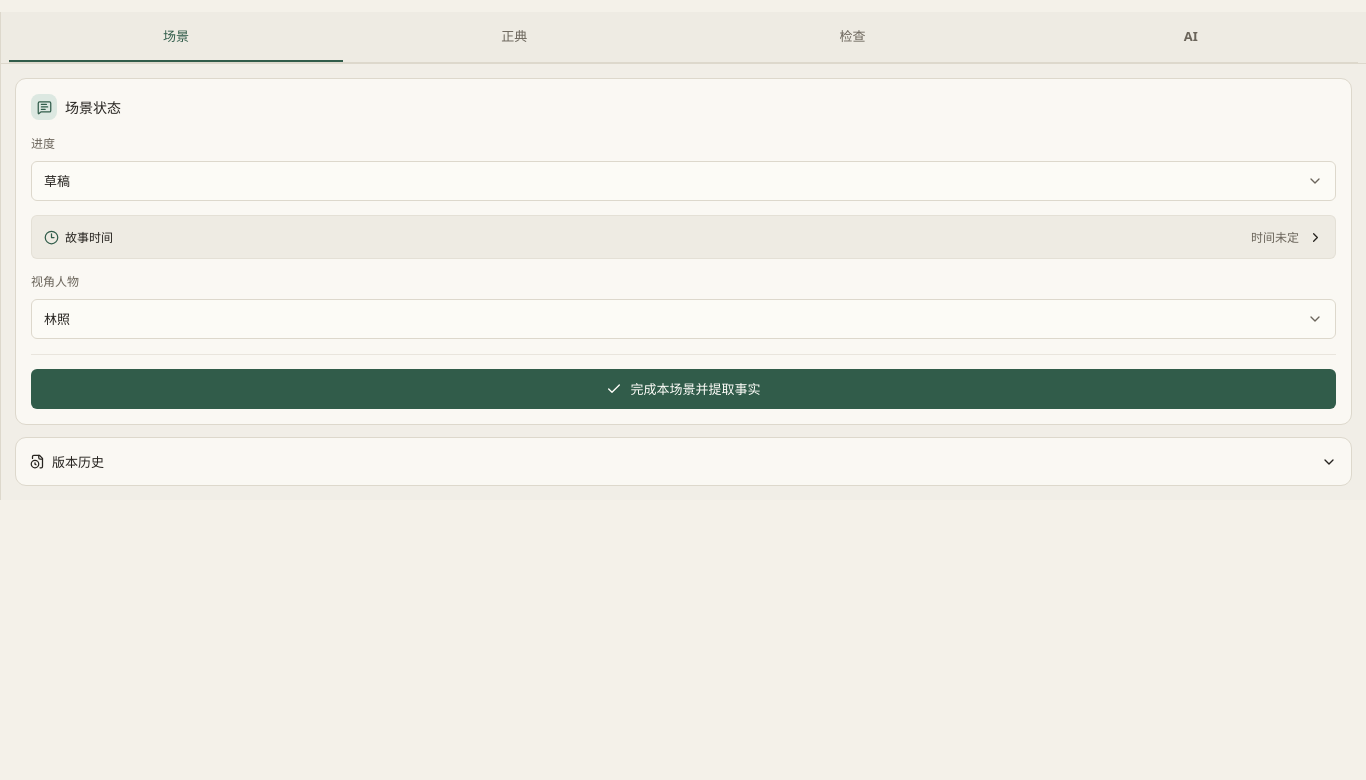
Test: Inspector knowledge panel › shows streamed local output and lets the author stop without accepting partial text
Click the tab "AI": click(1191, 37) [1024,12,1358,62]
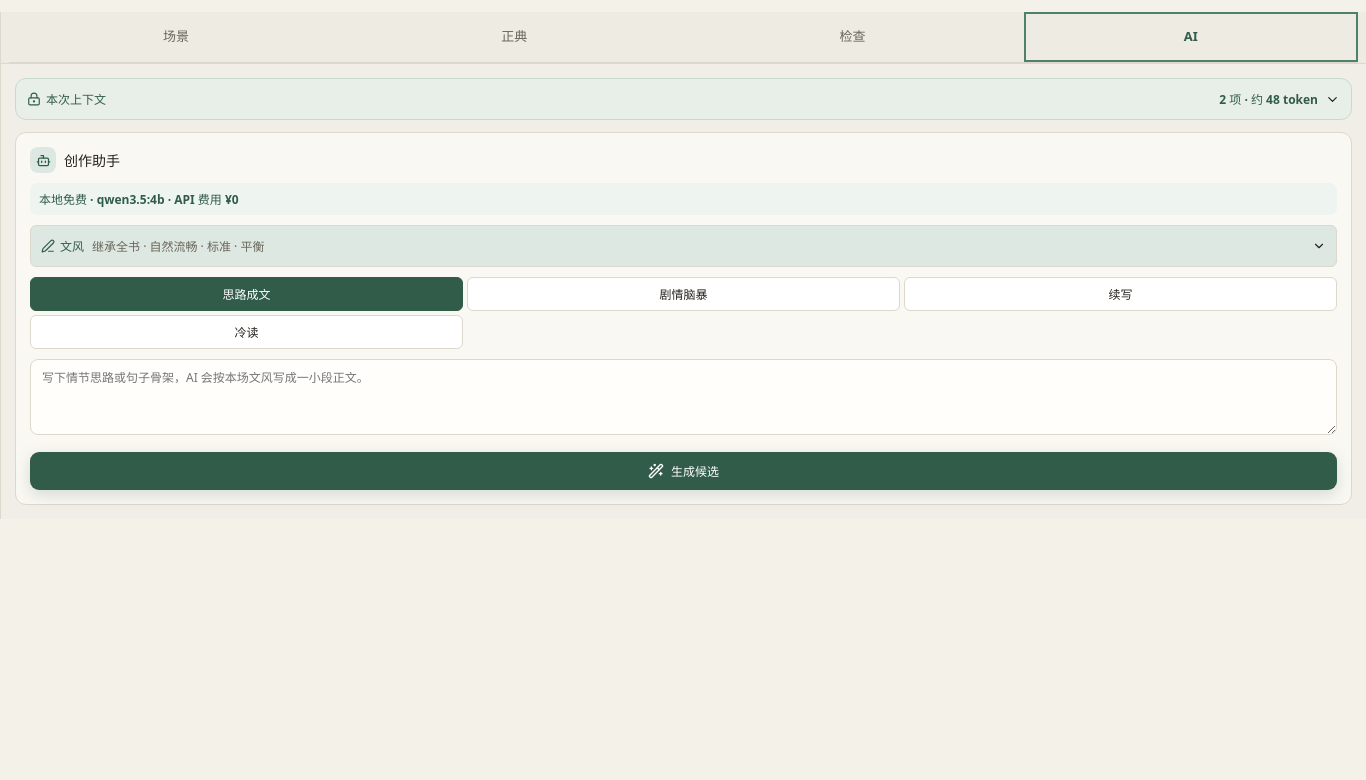
Click the button "生成候选": click(684, 471) [30,452,1337,490]
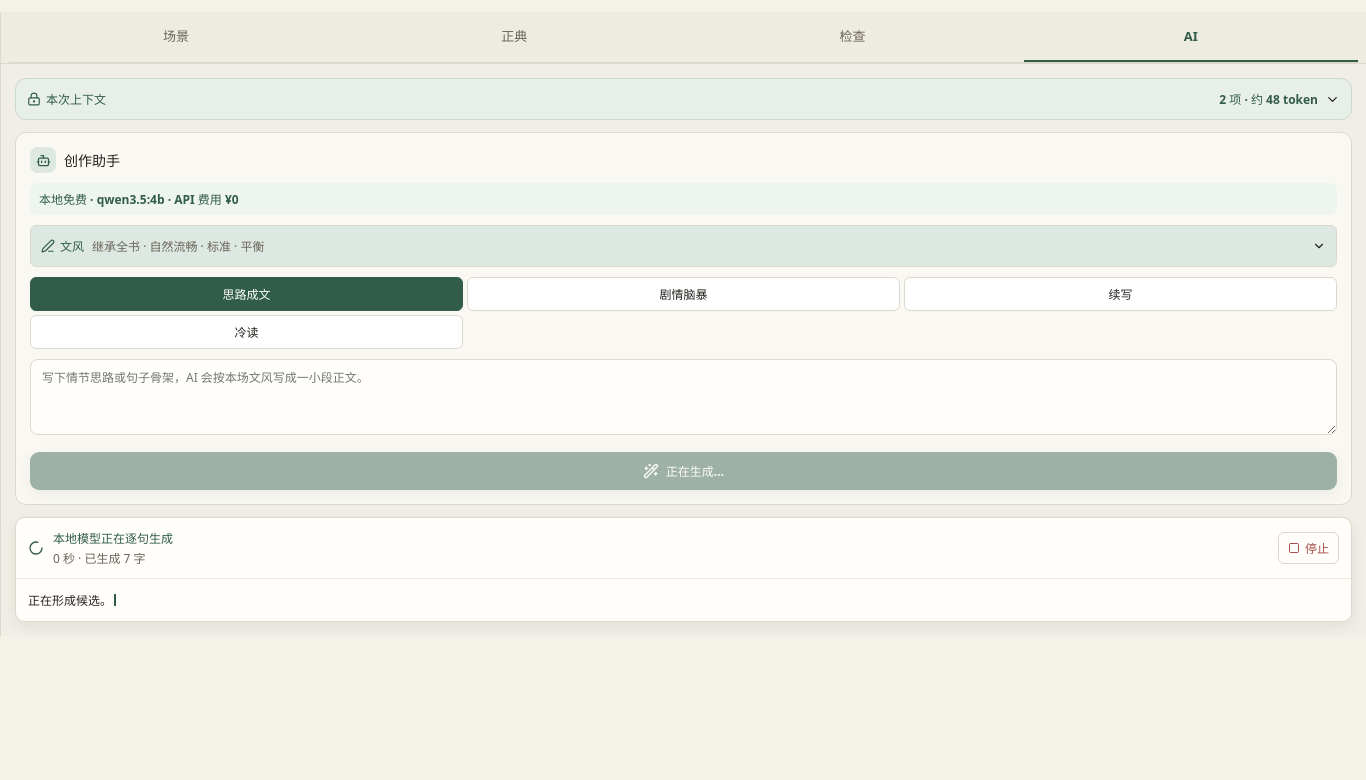
Expected: the text "本地模型正在逐句生成" is shown, [53,530,173,547]
Expected: the text "正在形成候选。" is shown, [16,578,1351,621]
Click the button "停止": click(1308, 548) [1278,532,1339,564]
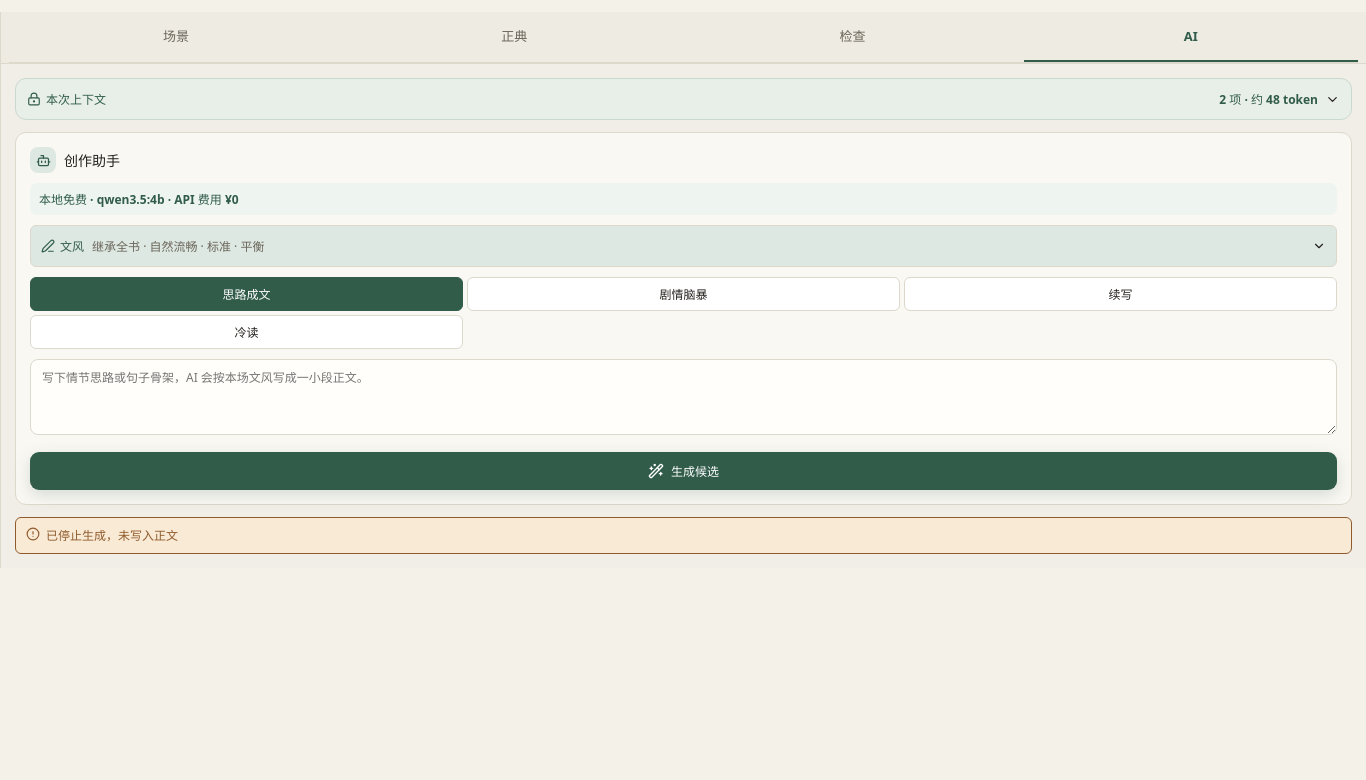
Expected: the text "已停止生成，未写入正文" is shown, [15,517,1352,554]
